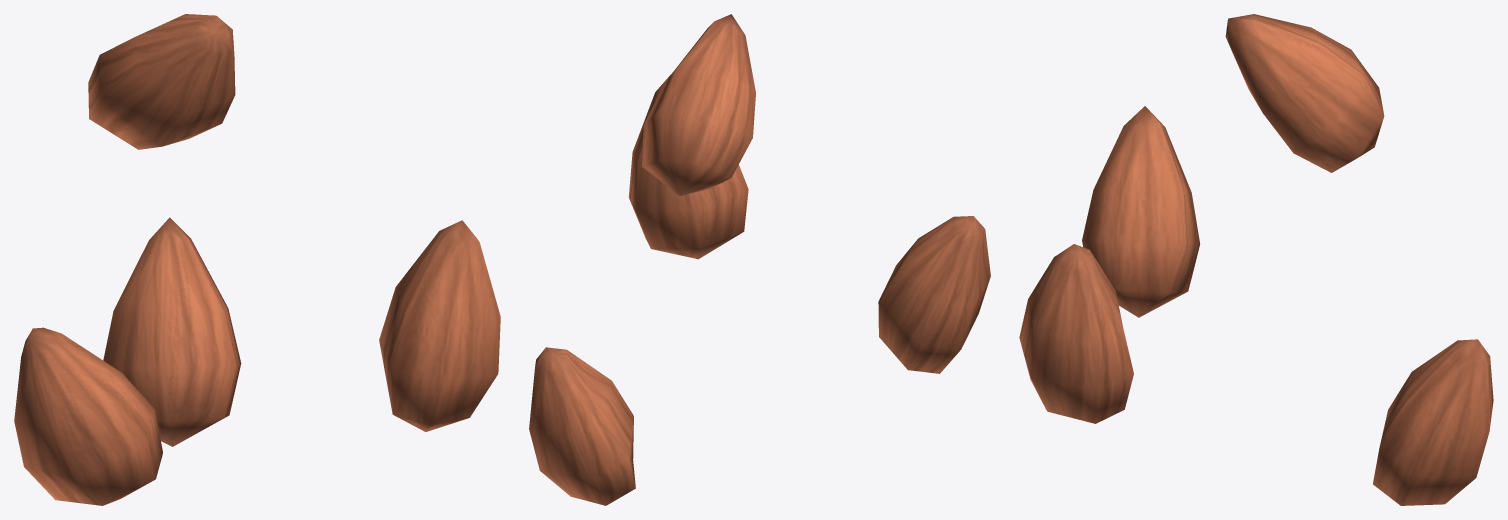
File: Seeds_01.fbx
3 renders of one model, left to right at view 1: azimuth 30°, elevation 25°; view 2: azimuth 150°, elevation 25°; view 3: azimuth 270°, elevation 25°, orthographic. The views are drawn at different scales.
Parts seen in each view (by area): view 1: Seeds; view 2: Seeds; view 3: Seeds.
Part boxes in pixels (box(x1,y1,x2,y2)): Seeds: box(14, 14, 500, 505); Seeds: box(529, 14, 990, 505); Seeds: box(1019, 14, 1493, 505).
Bounding box in the file's own units: 33.74 × 37.08 × 34.43.
